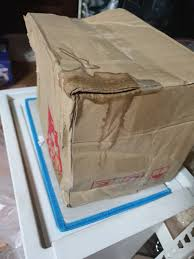damaged package: (53, 64, 144, 131), (97, 119, 128, 178), (20, 13, 52, 65)
